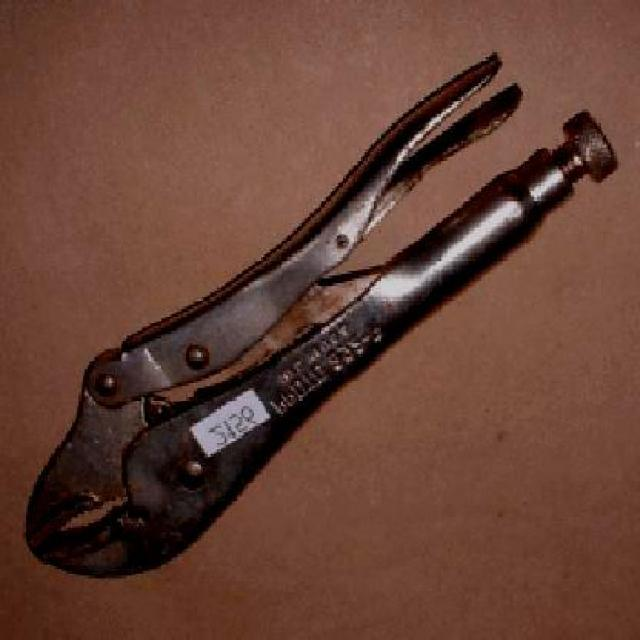pliers: (24, 54, 618, 582)
